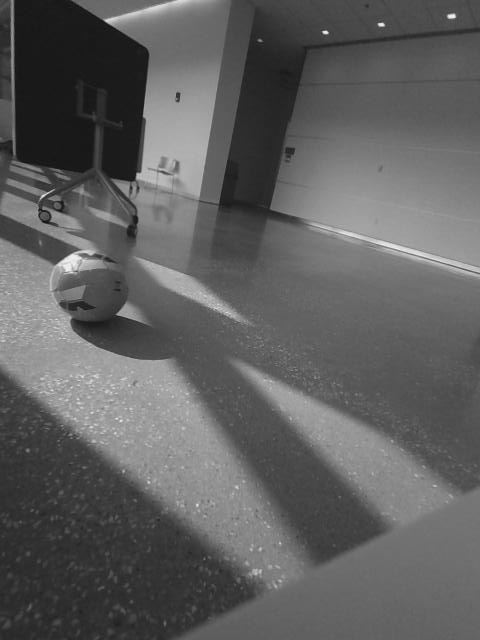ball: (51, 249, 133, 329)
